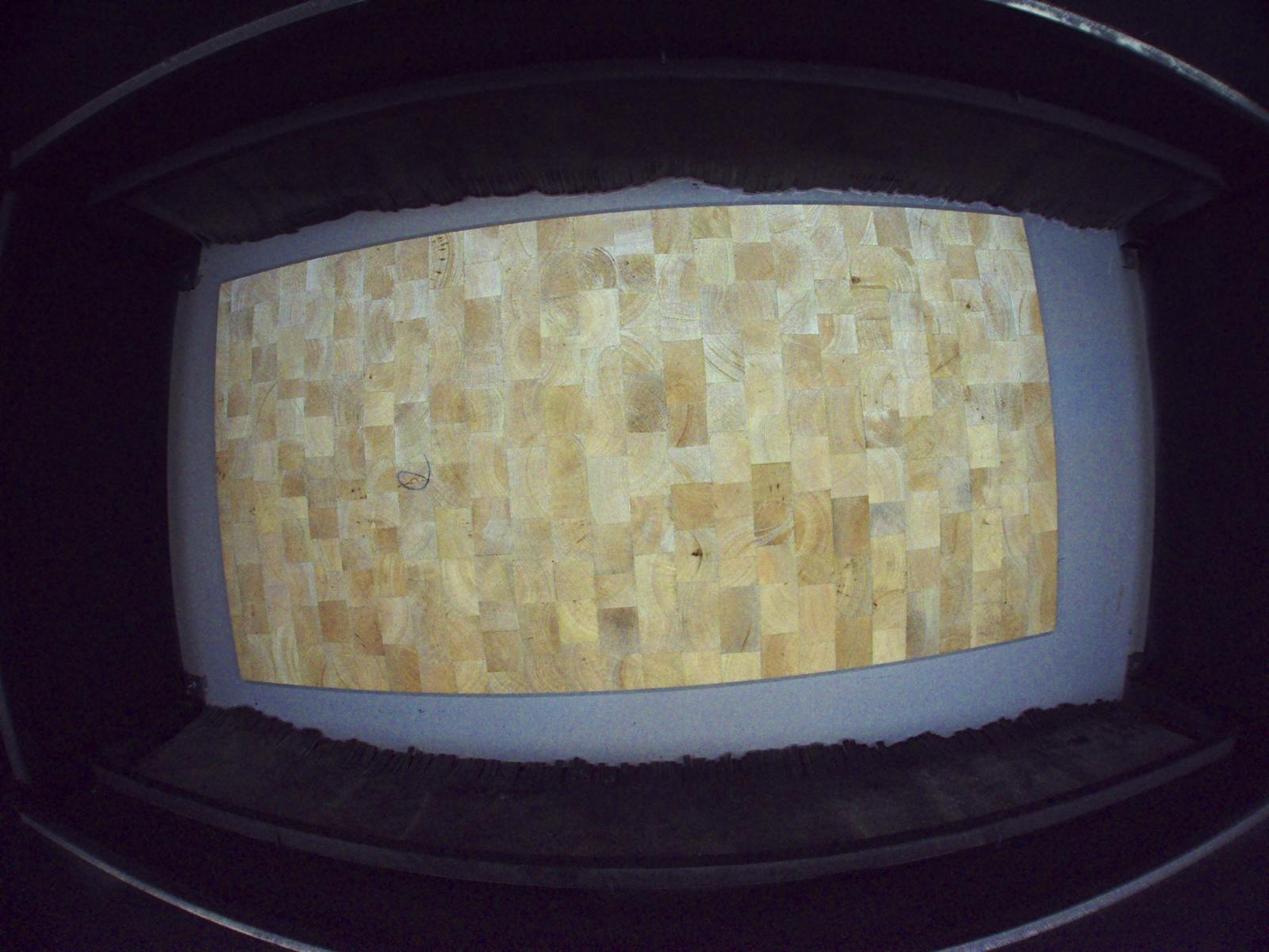nudillo: (398, 476, 431, 488)
sheck_ecuatoriano: (687, 529, 704, 573)
